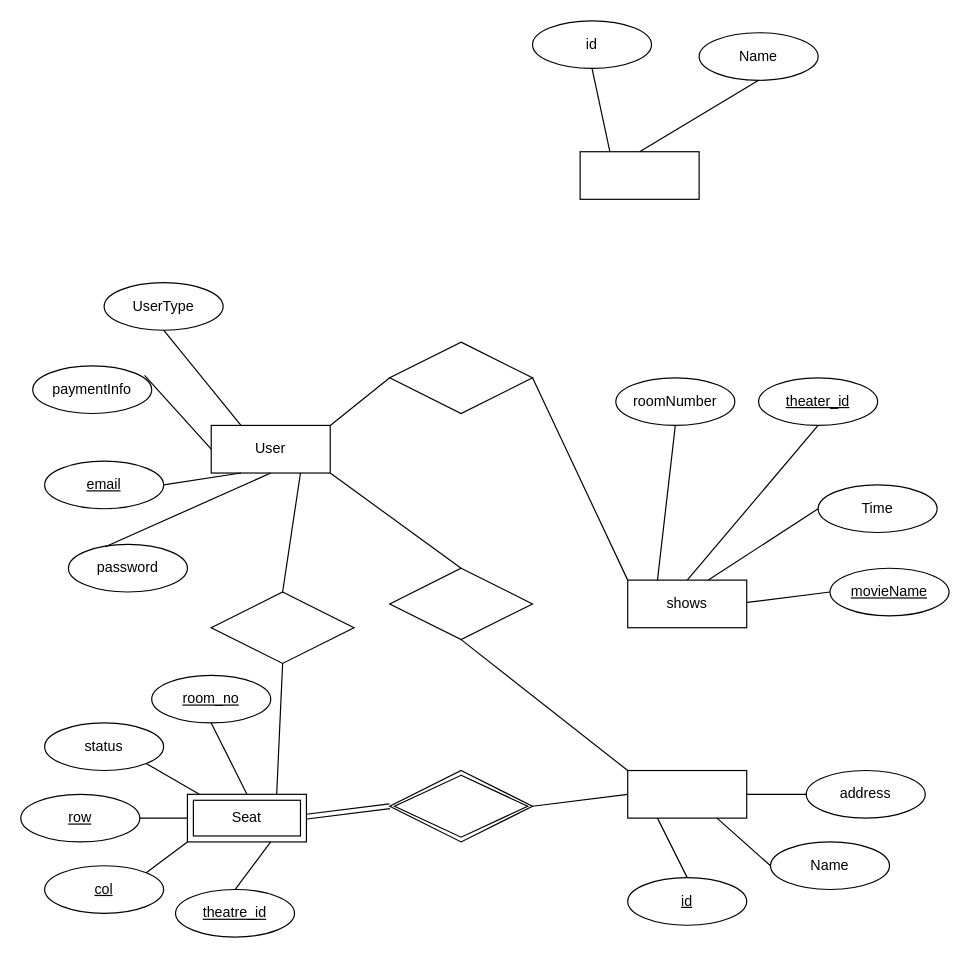
Image size: 970x958. Some labels were removed from this diagram. Each missing label, with the centre of its shape:
Create: (x=461, y=377)
have: (x=461, y=805)
Manage: (x=461, y=603)
movie: (x=639, y=175)
reserve: (x=282, y=627)
Threater: (x=687, y=793)
